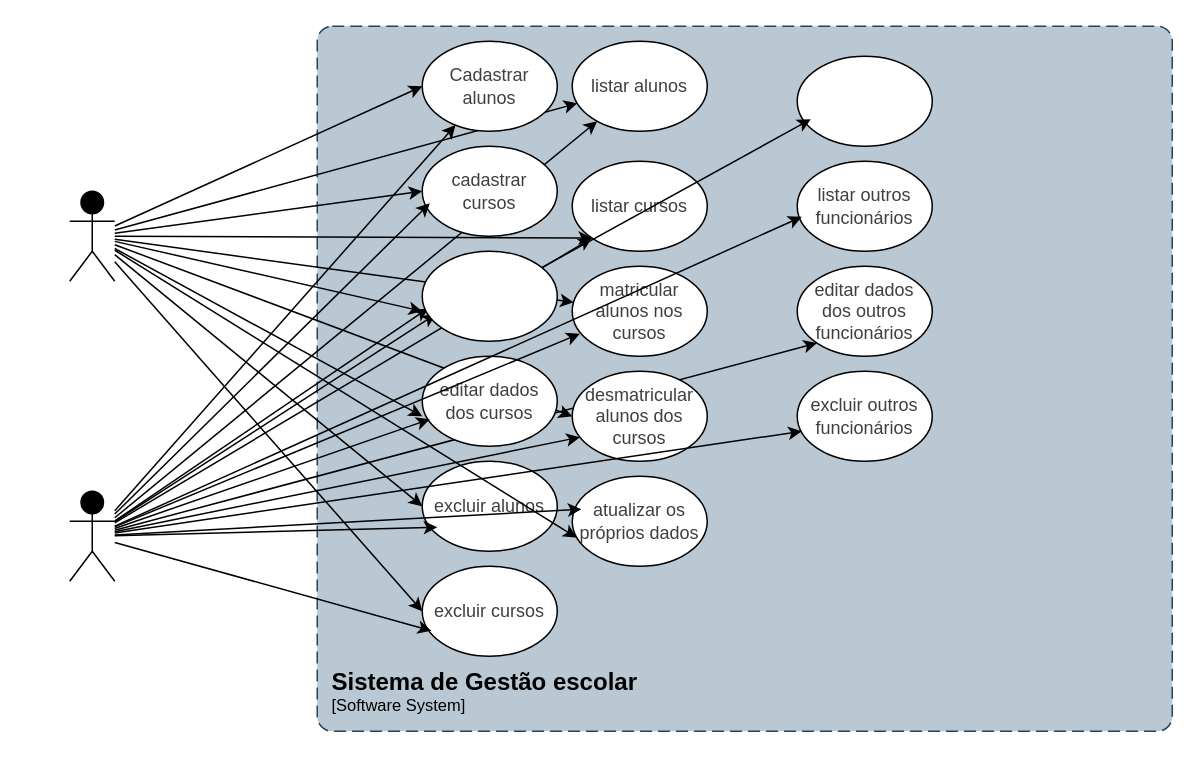
This 1199x758 diagram has some shape labels left out. Each missing label, with the centre of its shape:
"Adminiistradores" goes at pixel 91 535.
"cadastrar outros funcionários" goes at pixel 864 100.
"Colaboradores" goes at pixel 91 235.
"editar dados dos alunos" goes at pixel 489 295.
